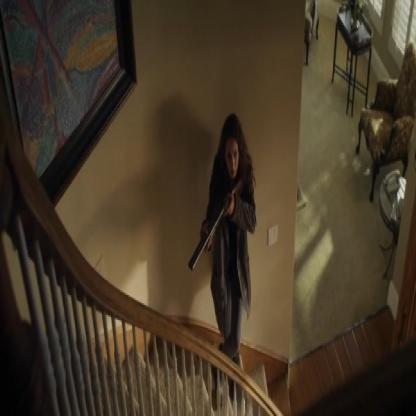Guns: (186, 167, 248, 272)
